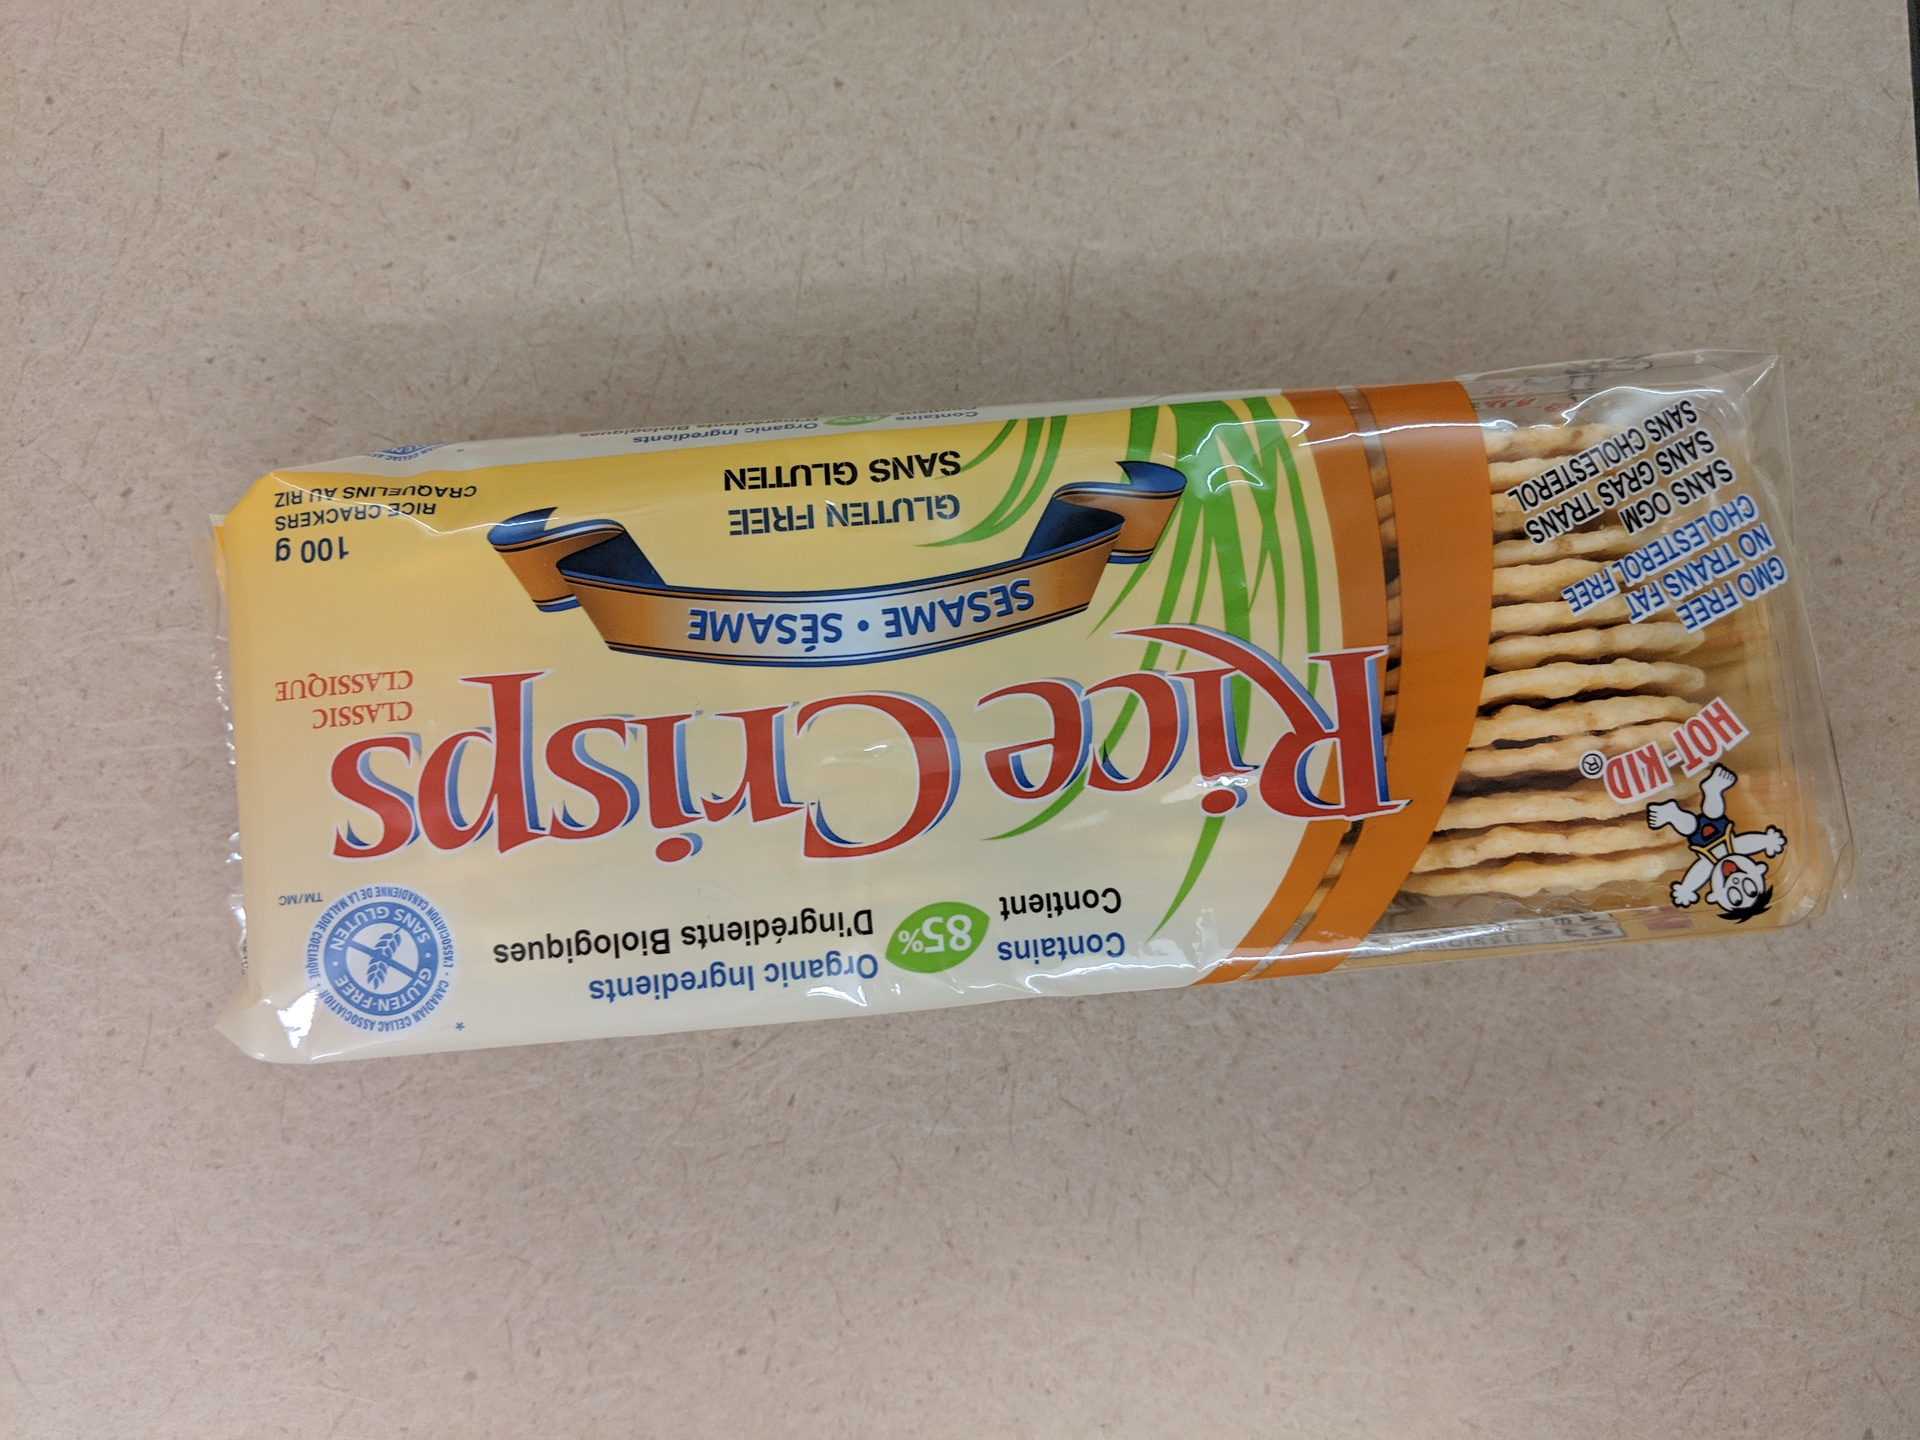hot_kid_rice_crisps_sesame: (193, 343, 1869, 1070)
